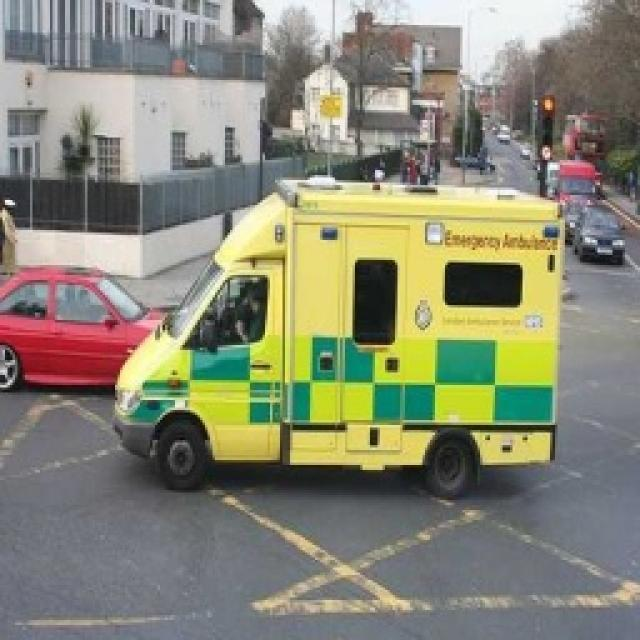ambulance: (112, 175, 558, 495), (0, 2, 270, 250), (0, 217, 165, 395)
